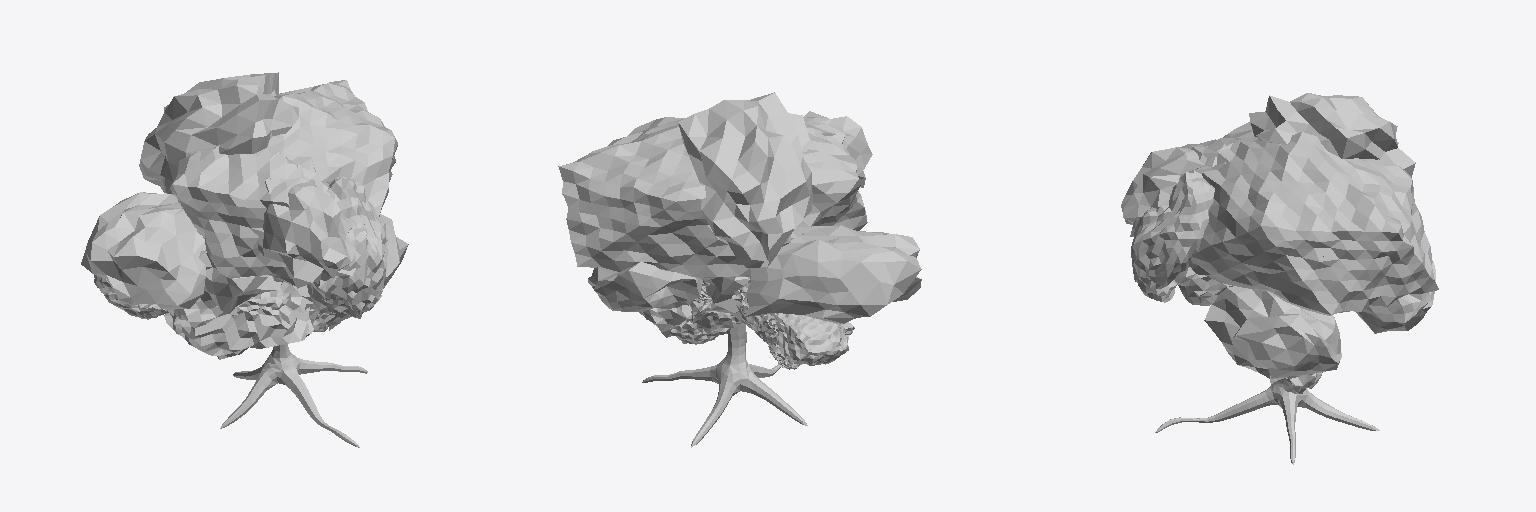
Rendered from Tree.obj.
The picture shows the model from 3 angles: view 1: azimuth 30°, elevation 25°; view 2: azimuth 150°, elevation 25°; view 3: azimuth 270°, elevation 25°; orthographic projection.
Parts seen in each view (by area): view 1: Icosphere.003, Plane; view 2: Icosphere.003, Plane; view 3: Icosphere.003, Plane.
Part boxes in pixels (x1,y1,x2,y2): Icosphere.003: (81, 72, 408, 359); Plane: (220, 344, 367, 447); Icosphere.003: (558, 92, 921, 369); Plane: (642, 323, 807, 447); Icosphere.003: (1121, 93, 1438, 393); Plane: (1155, 256, 1379, 464).
Bounding box in the file's own units: 19.27 × 18.77 × 16.68.